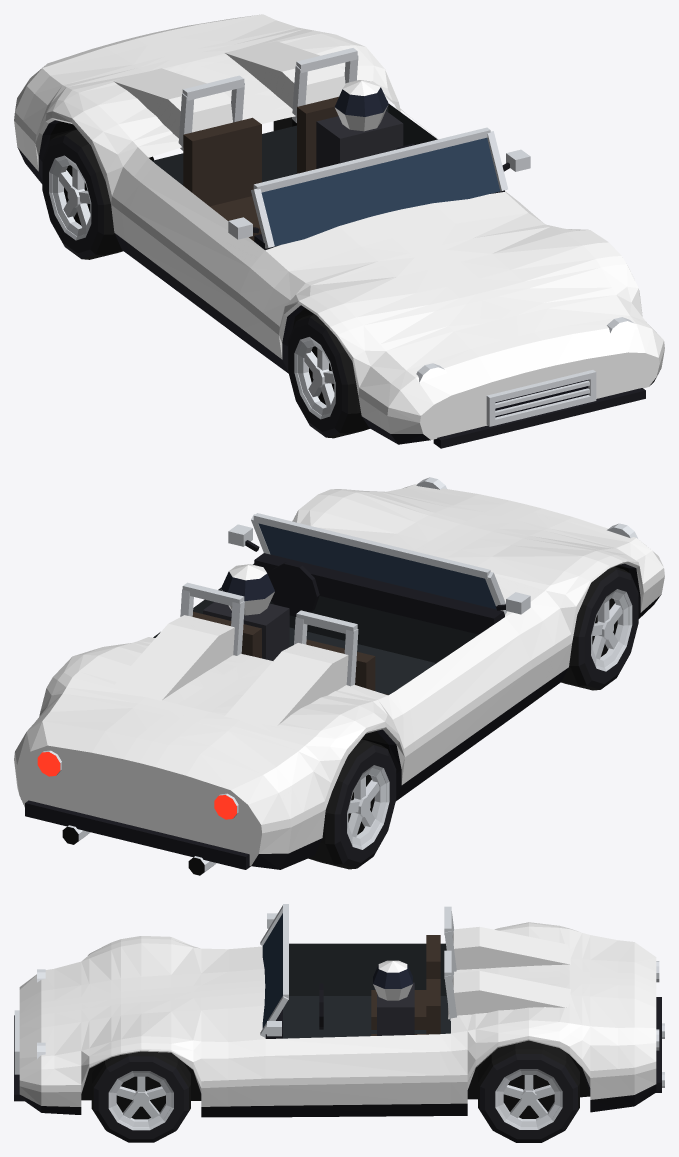
File: roadster.glb
3 renders of one model, top to bottom at view 1: azimuth 30°, elevation 25°; view 2: azimuth 150°, elevation 25°; view 3: azimuth 270°, elevation 25°, orthographic. The views are drawn at different scales.
Parts seen in each view (by area): view 1: paint, chrome (×3), stripe_a, glass, interior_seat, trim, tire_side (×2), stripe_b, trim_soft, interior, tire (×2), accent (+1 smaller); view 2: paint, trim, chrome (×3), stripe_a, interior, glass, tire_side (×2), stripe_b, tire (×2), trim_soft, interior_seat, glass_dark (+3 smaller); view 3: paint, interior, stripe_a, chrome (×3), tire_side (×2), trim, stripe_b, trim_under (×3), tire (×2), interior_seat, glass, trim_soft (+2 smaller).
Boxes of the visible parts, x1=… form: paint: x1=14, y1=14, x2=664, y2=439; chrome (×3): x1=49, y1=48, x2=633, y2=426; stripe_a: x1=92, y1=24, x2=586, y2=381; glass: x1=261, y1=137, x2=500, y2=246; interior_seat: x1=183, y1=96, x2=338, y2=241; trim: x1=17, y1=120, x2=658, y2=448; tire_side (×2): x1=42, y1=135, x2=347, y2=437; stripe_b: x1=14, y1=111, x2=664, y2=422; trim_soft: x1=316, y1=111, x2=403, y2=168; interior: x1=152, y1=103, x2=437, y2=185; tire (×2): x1=51, y1=129, x2=369, y2=438; accent: x1=335, y1=80, x2=388, y2=131; paint: x1=14, y1=484, x2=664, y2=865; trim: x1=21, y1=540, x2=661, y2=869; chrome (×3): x1=42, y1=477, x2=637, y2=873; stripe_a: x1=92, y1=494, x2=572, y2=775; interior: x1=153, y1=563, x2=478, y2=694; glass: x1=258, y1=523, x2=496, y2=609; tire_side (×2): x1=334, y1=569, x2=638, y2=868; stripe_b: x1=14, y1=511, x2=664, y2=833; tire (×2): x1=308, y1=566, x2=629, y2=869; trim_soft: x1=203, y1=602, x2=289, y2=660; interior_seat: x1=192, y1=611, x2=388, y2=695; glass_dark: x1=221, y1=571, x2=274, y2=601; paint: x1=19, y1=922, x2=656, y2=1106; interior: x1=283, y1=943, x2=450, y2=1038; stripe_a: x1=19, y1=958, x2=656, y2=1039; chrome (×3): x1=14, y1=904, x2=664, y2=1130; tire_side (×2): x1=93, y1=1054, x2=577, y2=1142; trim: x1=14, y1=983, x2=661, y2=1117; stripe_b: x1=19, y1=1036, x2=656, y2=1092; trim_under (×3): x1=81, y1=1054, x2=590, y2=1119; tire (×2): x1=91, y1=1040, x2=579, y2=1130; interior_seat: x1=371, y1=935, x2=440, y2=1035; glass: x1=262, y1=913, x2=282, y2=1028; trim_soft: x1=377, y1=982, x2=414, y2=1035.
Bounding box in the file's own units: 1.89 × 1.14 × 4.5.
